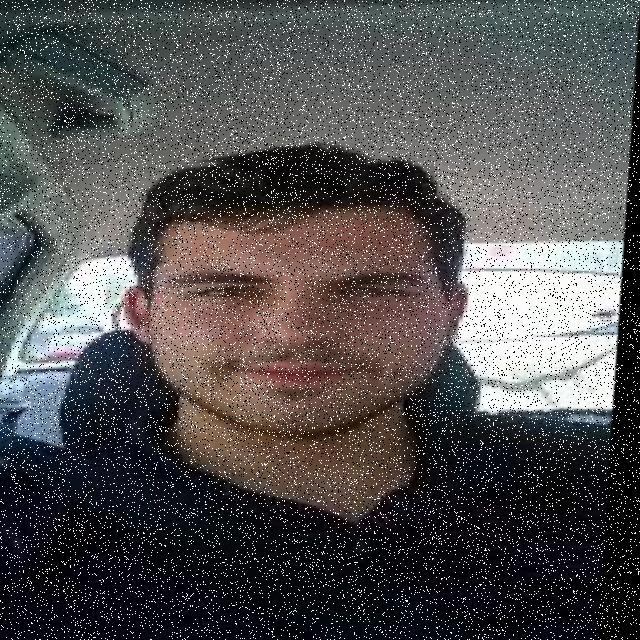seatbelt: (0, 356, 621, 640)
